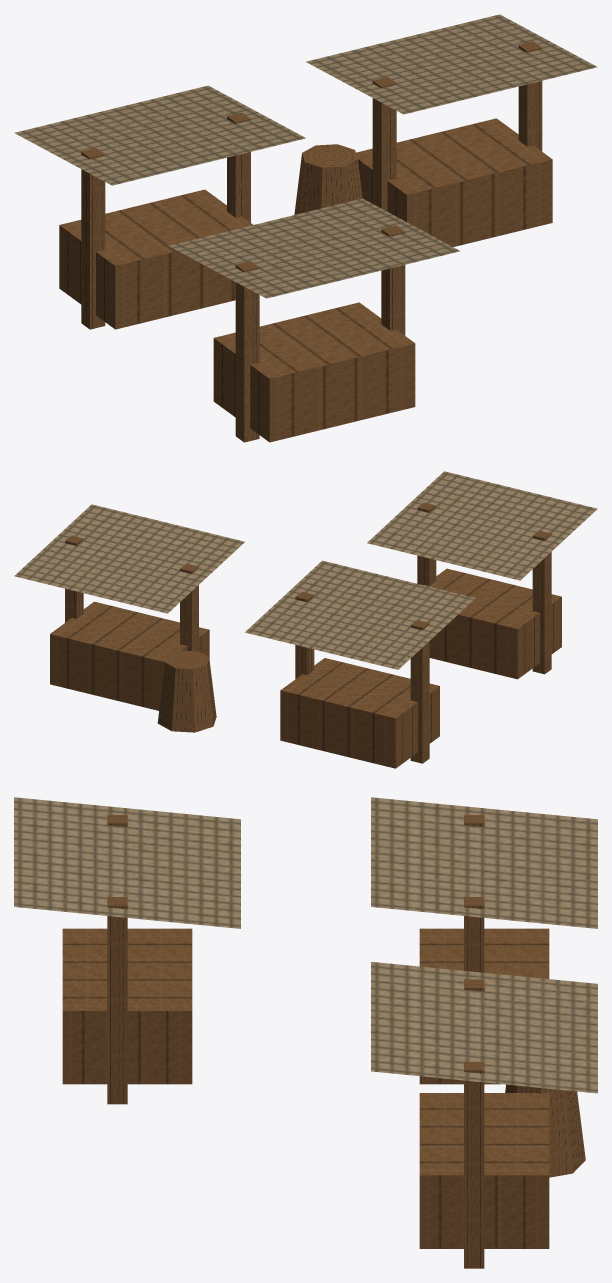
Rendered from domestic-MARKET-2-lod1.glb.
3 renders of one model, top to bottom at view 1: azimuth 30°, elevation 25°; view 2: azimuth 150°, elevation 25°; view 3: azimuth 270°, elevation 25°, orthographic. The views are drawn at different scales.
Bounding box in the file's own units: 0.8 × 0.28 × 0.72.
Materials: 1 (1 with a texture image).
